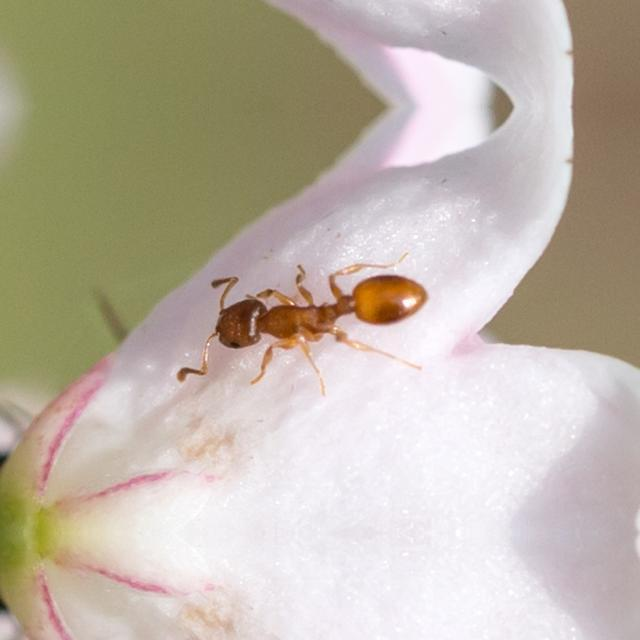Temnothorax: (190, 240, 450, 380)
